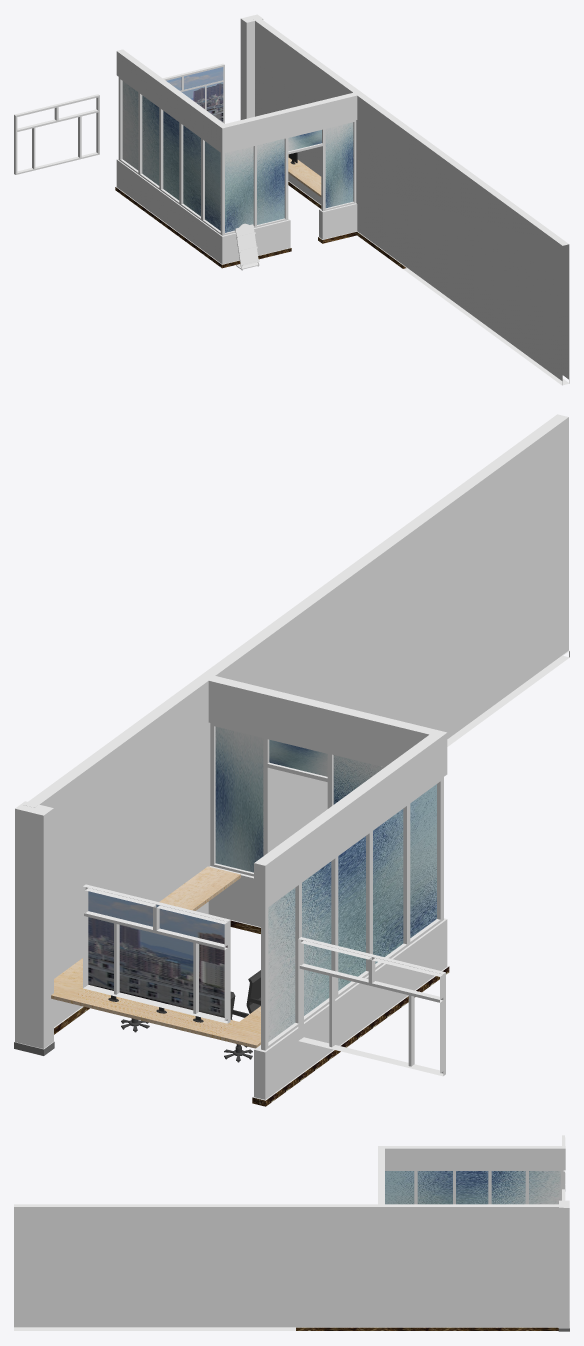
Rendered from sai_di3.dae.
3 views of the same model, one above another, from view 1: azimuth 30°, elevation 25°; view 2: azimuth 150°, elevation 25°; view 3: azimuth 270°, elevation 25° (orthographic). The views are drawn at different scales.
Visible parts, largest first — view 1: _3; view 2: _3; view 3: _3.
Part boxes in pixels (x1,y1,x2,y2): _3: (14, 14, 569, 385); _3: (14, 414, 569, 1106); _3: (14, 1135, 569, 1331).
Size of the model in its own units: 5.55 by 12.23 by 3.
10 materials, 7 textured.
